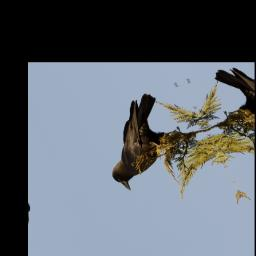Crow: (78, 91, 197, 196)
